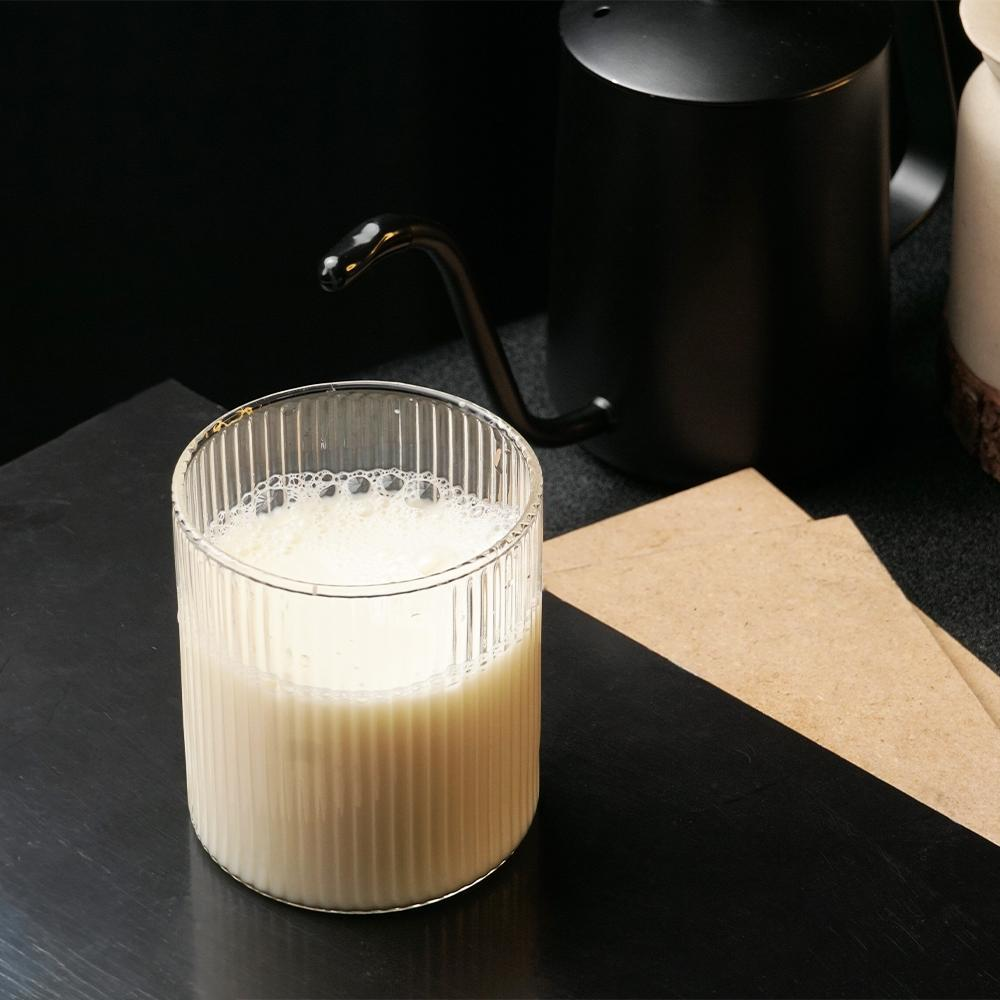produk_susu: (210, 436, 495, 871)
